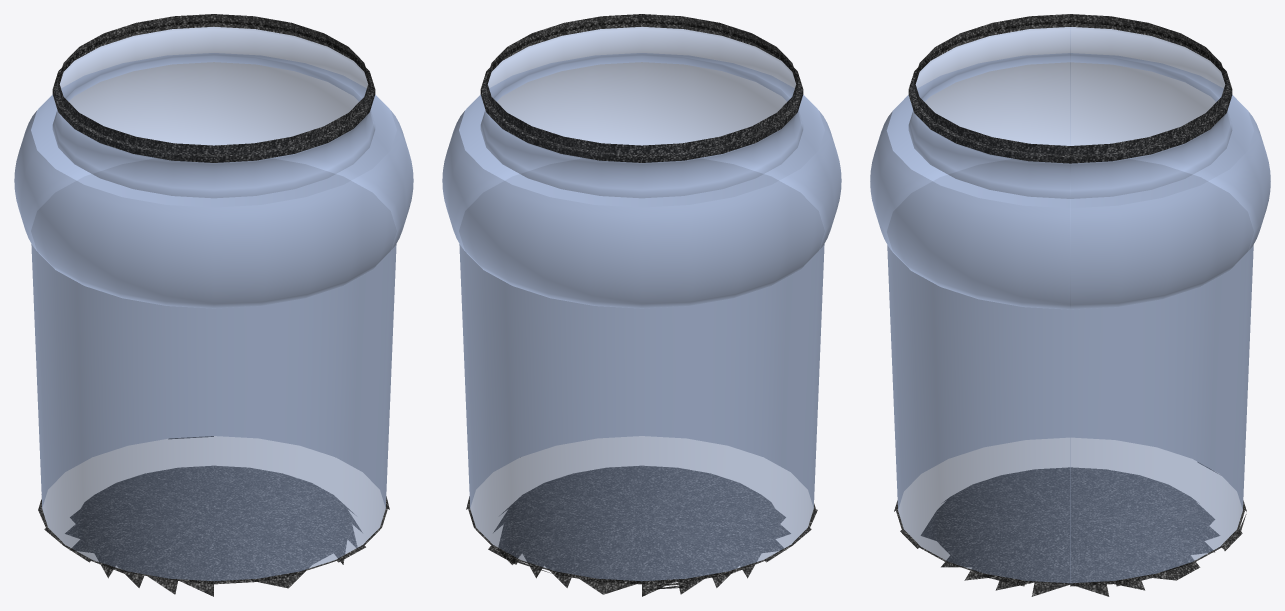
3 views of the same model, side by side, from view 1: azimuth 30°, elevation 25°; view 2: azimuth 150°, elevation 25°; view 3: azimuth 270°, elevation 25° (orthographic).
Bounding box in the file's own units: 1.23 × 1.55 × 1.23.
